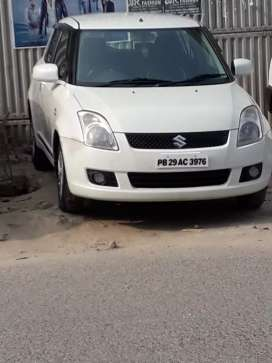nameplate: (154, 153, 209, 168)
